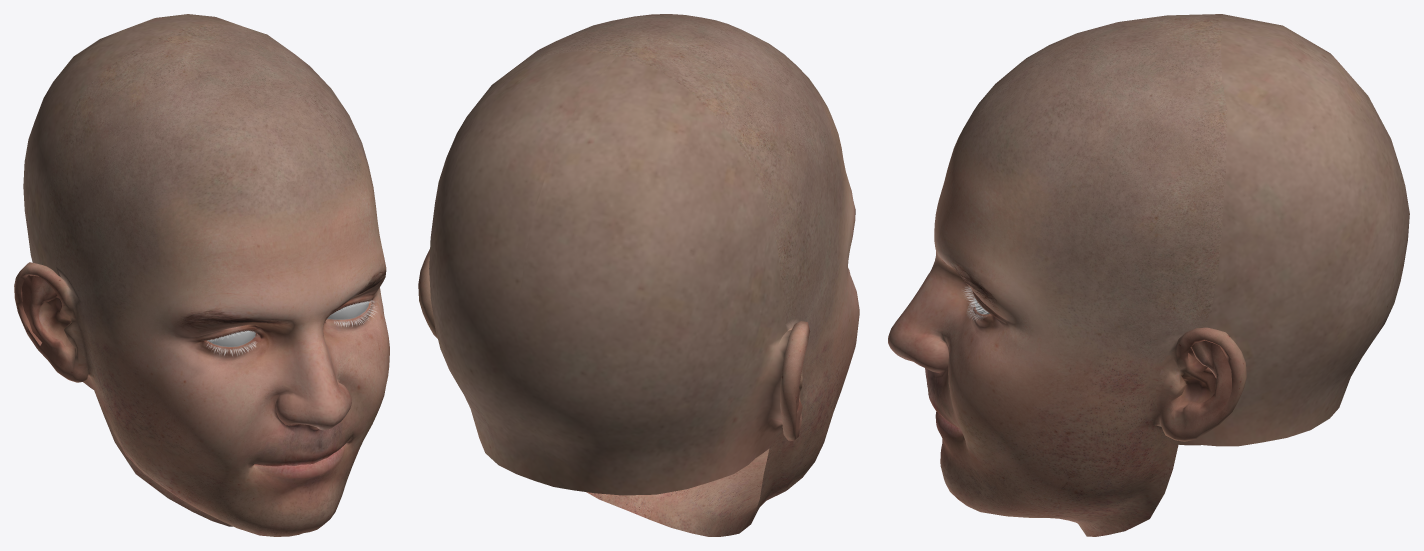
Rendered from Fat.obj.
3 views of the same model, side by side, from view 1: azimuth 30°, elevation 25°; view 2: azimuth 150°, elevation 25°; view 3: azimuth 270°, elevation 25° (orthographic). The views are drawn at different scales.
Visible parts, largest first — view 1: head, rEye; view 2: head; view 3: head.
Part boxes in pixels (box(x1,y1,x2,y2)): head: box(14, 14, 389, 536); rEye: box(207, 331, 255, 346); head: box(418, 14, 859, 536); head: box(888, 14, 1409, 536).
Size of the model in its own units: 18.04 by 24.01 by 22.74.
